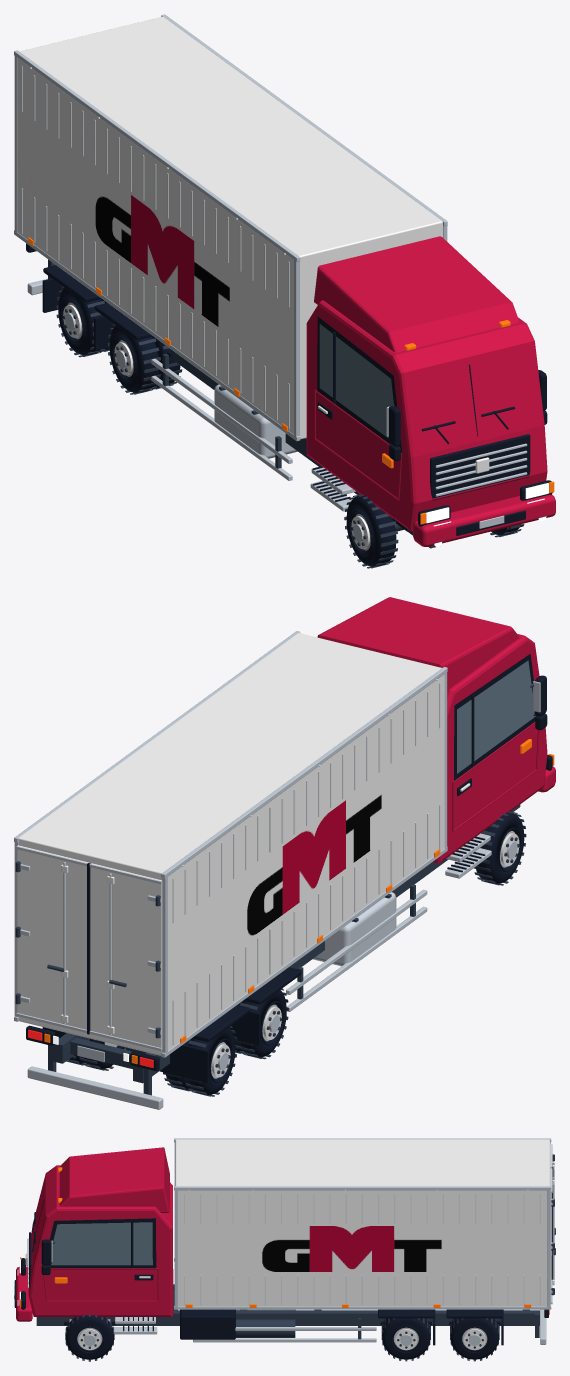
File: gmt-red-white-container-truck.glb
3 renders of one model, top to bottom at view 1: azimuth 30°, elevation 25°; view 2: azimuth 150°, elevation 25°; view 3: azimuth 270°, elevation 25°, orthographic. The views are drawn at different scales.
Visible parts, largest first — view 1: White container panels, GMT red cab paint, Rubber and black trim, Brushed aluminium frame, GMT embedded side logo, White panel joints, Blue grey cab glass, Tyre tread relief, Graphite chassis, Polished metal hardware, Headlamp lens; view 2: White container panels, Brushed aluminium frame, GMT red cab paint, Rubber and black trim, GMT embedded side logo, White panel joints, Blue grey cab glass, Graphite chassis, Tyre tread relief, Polished metal hardware, Cab seams and red recesses; view 3: White container panels, GMT red cab paint, Rubber and black trim, Brushed aluminium frame, GMT embedded side logo, Graphite chassis, Blue grey cab glass, White panel joints, Polished metal hardware, Tyre tread relief, Cab seams and red recesses, Amber lamps and reflectors.
Part boxes in pixels (x1,y1,x2,y2): White container panels: (17, 16, 442, 439); GMT red cab paint: (306, 236, 555, 546); Rubber and black trim: (26, 243, 552, 566); Brushed aluminium frame: (14, 14, 540, 550); GMT embedded side logo: (95, 169, 229, 335); White panel joints: (21, 66, 289, 428); Blue grey cab glass: (319, 324, 393, 438); Tyre tread relief: (56, 286, 524, 568); Graphite chassis: (48, 259, 520, 548); Polished metal hardware: (30, 67, 489, 549); Headlamp lens: (426, 483, 548, 546); White container panels: (17, 633, 444, 1055); Brushed aluminium frame: (14, 631, 540, 1109); GMT red cab paint: (317, 597, 555, 863); Rubber and black trim: (26, 654, 552, 1094); GMT embedded side logo: (247, 774, 381, 940); White panel joints: (172, 682, 440, 1045); Blue grey cab glass: (457, 660, 535, 773); Graphite chassis: (15, 683, 535, 1095); Tyre tread relief: (66, 811, 526, 1096); Polished metal hardware: (61, 679, 519, 1077); Cab seams and red recesses: (435, 722, 539, 860); White container panels: (175, 1139, 551, 1306); GMT red cab paint: (16, 1147, 172, 1321); Rubber and black trim: (14, 1167, 553, 1359); Brushed aluminium frame: (14, 1138, 554, 1350); GMT embedded side logo: (262, 1226, 441, 1271); Graphite chassis: (36, 1154, 555, 1348); Blue grey cab glass: (50, 1222, 152, 1265); White panel joints: (184, 1194, 540, 1305); Polished metal hardware: (25, 1165, 554, 1349); Tyre tread relief: (65, 1315, 499, 1361); Cab seams and red recesses: (43, 1268, 173, 1313); Amber lamps and reflectors: (20, 1167, 531, 1307).
Bounding box in the file's own units: 2.55 × 3.85 × 10.8.
15 materials, 1 textured.
